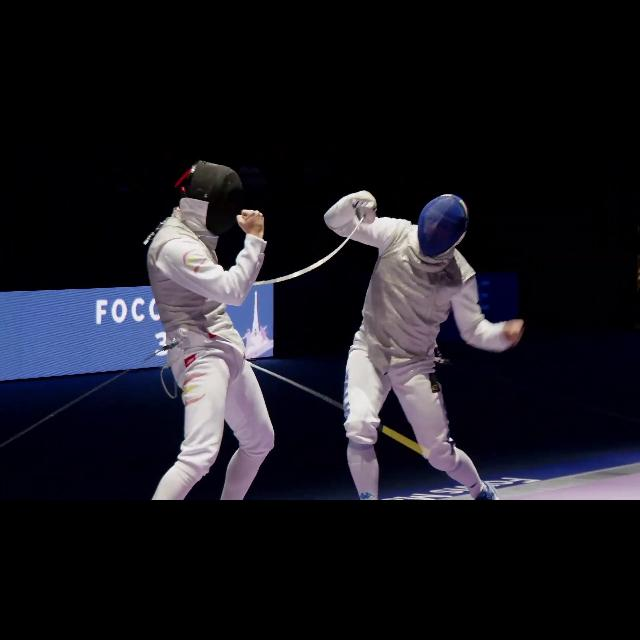blade: (240, 354, 432, 460), (242, 200, 382, 288)
